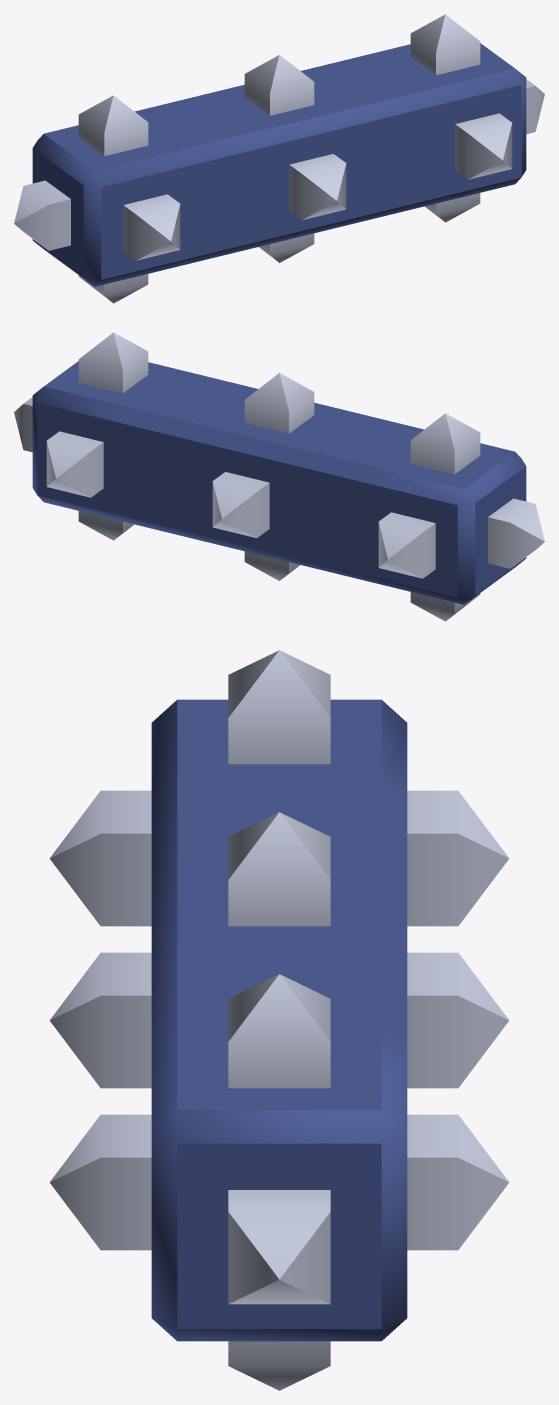
Rendered from spikeBlockWide.glb.
The picture shows the model from 3 angles, top to bottom: view 1: azimuth 30°, elevation 25°; view 2: azimuth 150°, elevation 25°; view 3: azimuth 270°, elevation 25°; orthographic projection. The views are drawn at different scales.
Parts seen in each view (by area): view 1: spikeBlockWide; view 2: spikeBlockWide; view 3: spikeBlockWide.
Part boxes in pixels (bbox=[...]): spikeBlockWide: bbox=[14, 14, 544, 303]; spikeBlockWide: bbox=[14, 332, 544, 621]; spikeBlockWide: bbox=[49, 650, 509, 1390].
Bounding box in the file's own units: 2.4 × 0.9 × 0.9.
